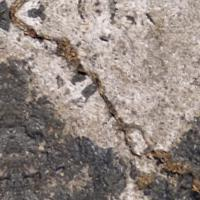crack: (11, 10, 164, 144)
